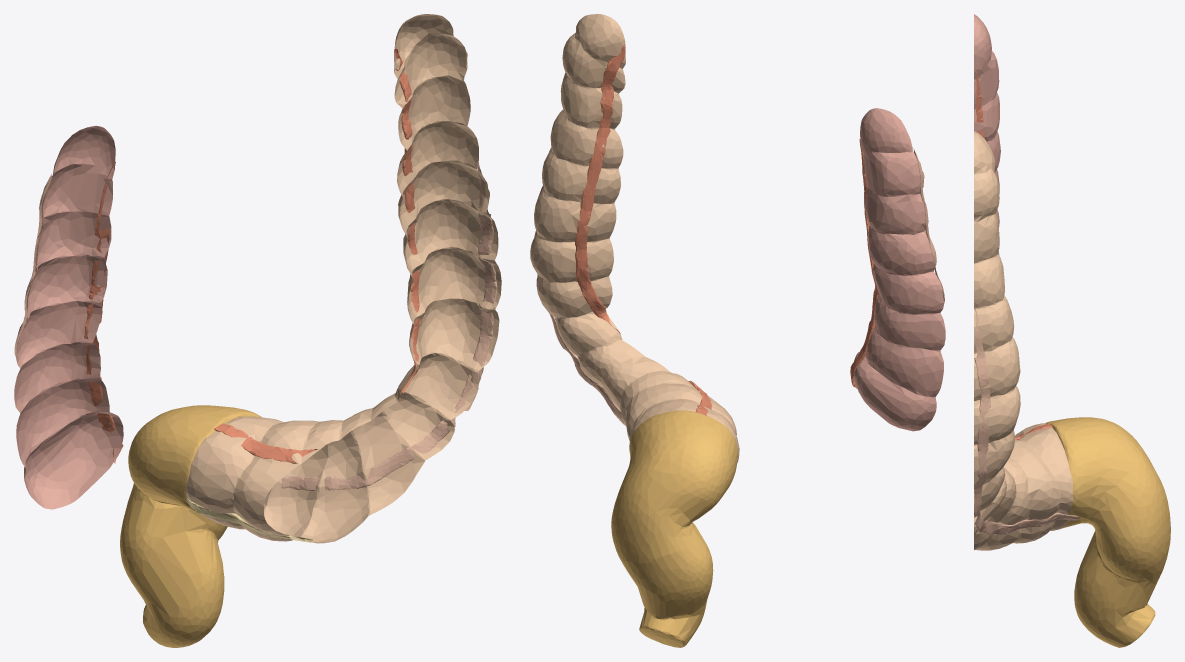
File: intestino_crasso_interno.glb
3 renders of one model, left to right at view 1: azimuth 30°, elevation 25°; view 2: azimuth 150°, elevation 25°; view 3: azimuth 270°, elevation 25°, orthographic. The views are drawn at different scales.
Parts seen in each view (by area): view 1: descending colon, ascending colon, rectum, taenia omentalis, taenia mesocolica, taenia libera; view 2: descending colon, ascending colon, rectum, taenia mesocolica, taenia omentalis; view 3: rectum, descending colon, ascending colon, taenia omentalis, taenia mesocolica.
Part boxes in pixels (x1,y1,x2,y2): descending colon: [185, 14, 501, 543]; ascending colon: [14, 125, 123, 509]; rectum: [120, 405, 261, 647]; taenia omentalis: [14, 50, 497, 490]; taenia mesocolica: [84, 48, 420, 463]; taenia libera: [186, 498, 312, 542]; descending colon: [530, 14, 739, 462]; ascending colon: [854, 108, 945, 431]; rectum: [611, 410, 737, 647]; taenia mesocolica: [575, 44, 878, 415]; taenia omentalis: [534, 47, 944, 420]; rectum: [1045, 417, 1170, 647]; descending colon: [974, 131, 1073, 550]; ascending colon: [974, 14, 1000, 255]; taenia omentalis: [974, 305, 1080, 534]; taenia mesocolica: [975, 69, 1052, 439].
Size of the model in its own units: 236 by 302 by 92.83.
